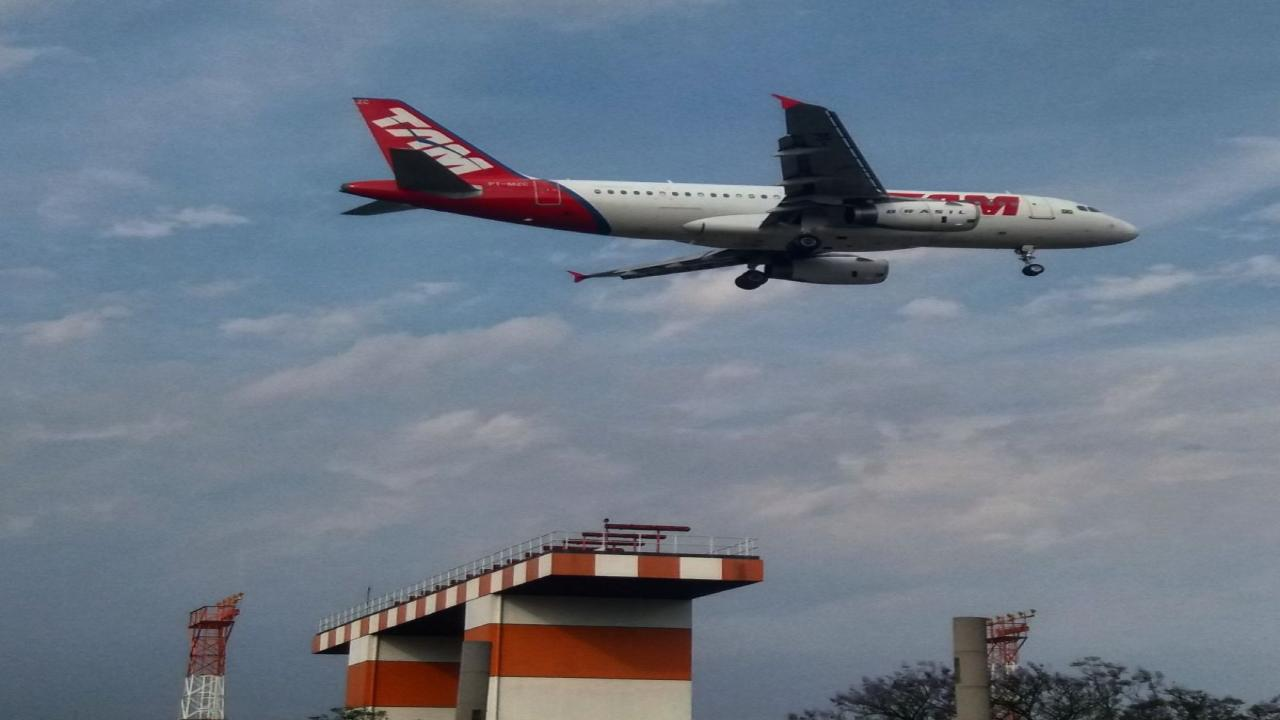Airplane: (314, 83, 1157, 300)
